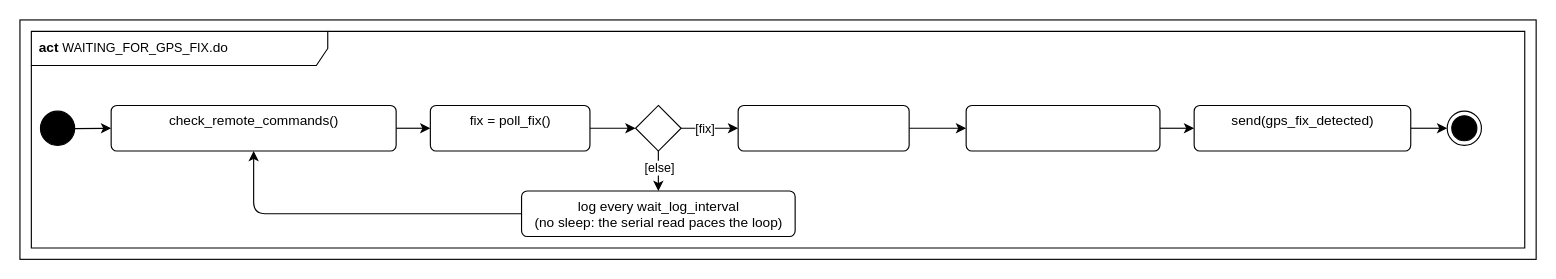
Some shapes in this 1556 by 279 pixel diagram are drawn without their labels. The centre of each missing label's shape, as x and y in pixels:
reference = fix.position: point (1062, 127)
try_clock_sync(): point (823, 127)
